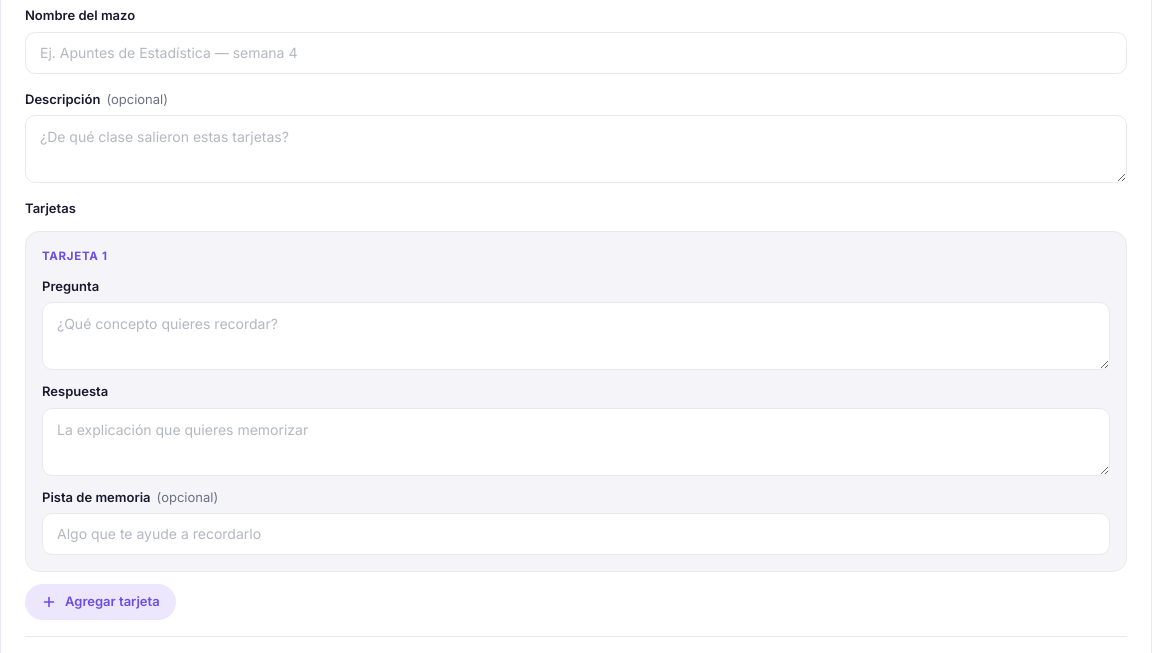
tarjetas del formulario › la última tarjeta no se puede quitar
(page scrolled)
Click the button "Agregar tarjeta". click: (100,602)
box: 25,584 -> 176,620
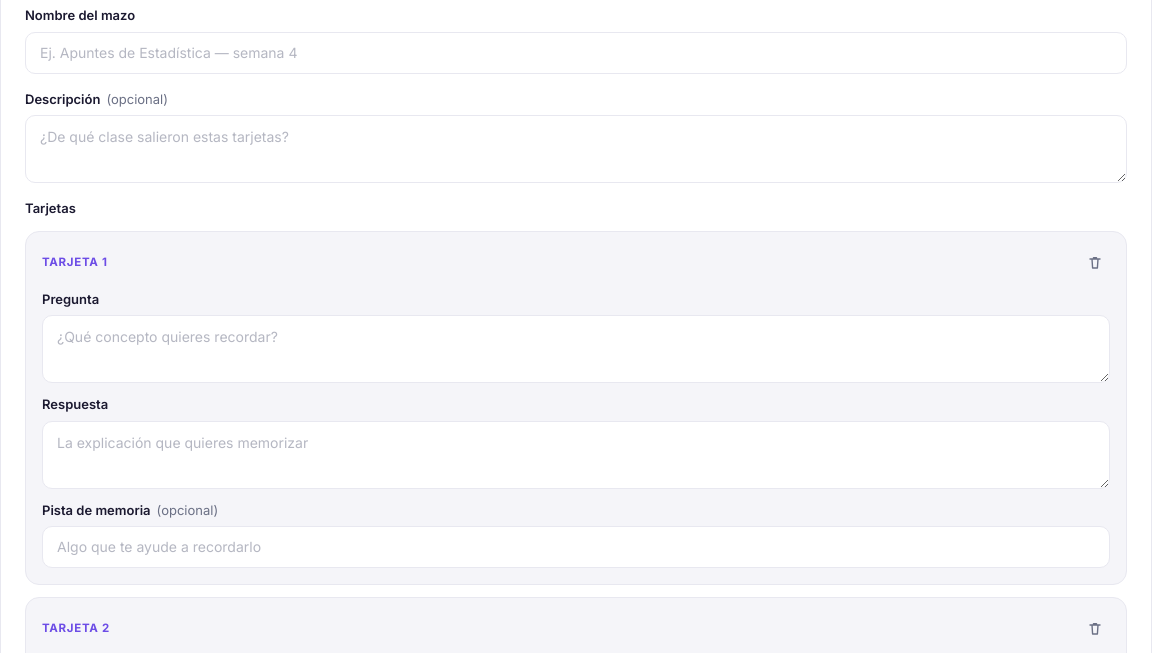
Result: the number of buttons named "Quitar tarjeta" is 2 at 1080,248 -> 1110,278; 1080,614 -> 1110,644
